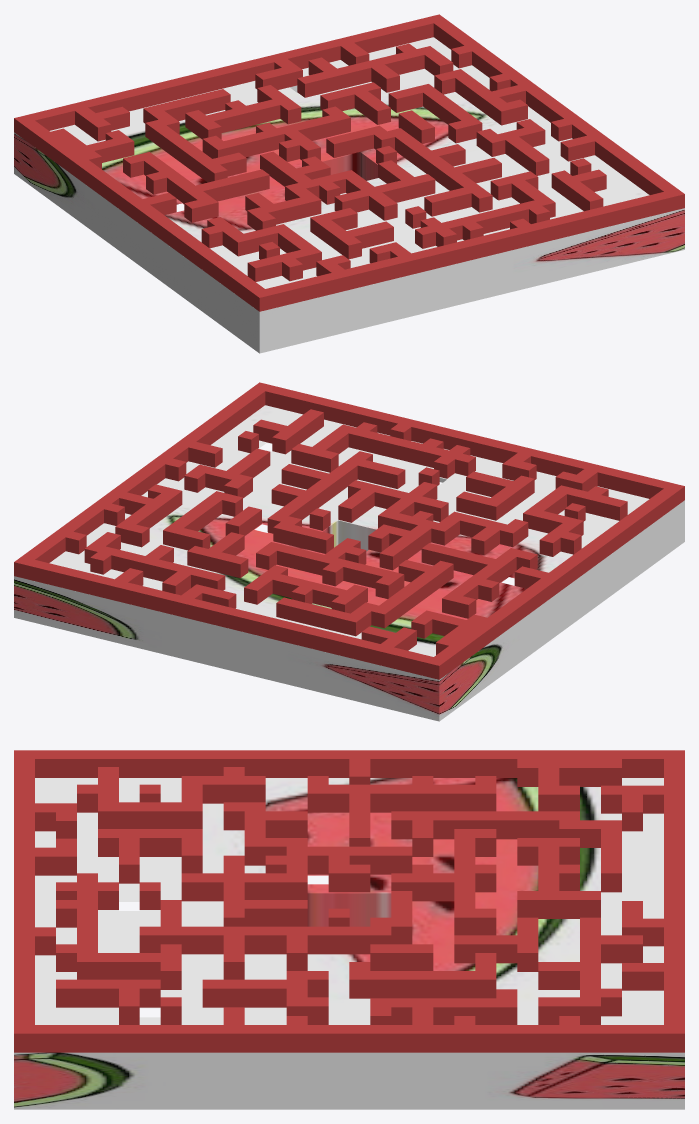
The model's file is labirinettt.obj.
3 renders of one model, top to bottom at view 1: azimuth 30°, elevation 25°; view 2: azimuth 150°, elevation 25°; view 3: azimuth 270°, elevation 25°, orthographic. The views are drawn at different scales.
Parts seen in each view (by area): view 1: Cube.001_Cube.002, Cube_Cube.003; view 2: Cube.001_Cube.002, Cube_Cube.003; view 3: Cube.001_Cube.002, Cube_Cube.003.
Part boxes in pixels (x1=…): Cube.001_Cube.002: x1=14, y1=14, x2=684, y2=311; Cube_Cube.003: x1=14, y1=37, x2=684, y2=353; Cube.001_Cube.002: x1=14, y1=382, x2=684, y2=679; Cube_Cube.003: x1=14, y1=405, x2=684, y2=721; Cube.001_Cube.002: x1=14, y1=750, x2=684, y2=1052; Cube_Cube.003: x1=14, y1=778, x2=684, y2=1109.
Size of the model in its own units: 16 by 2.02 by 16.
2 materials, 1 textured.
